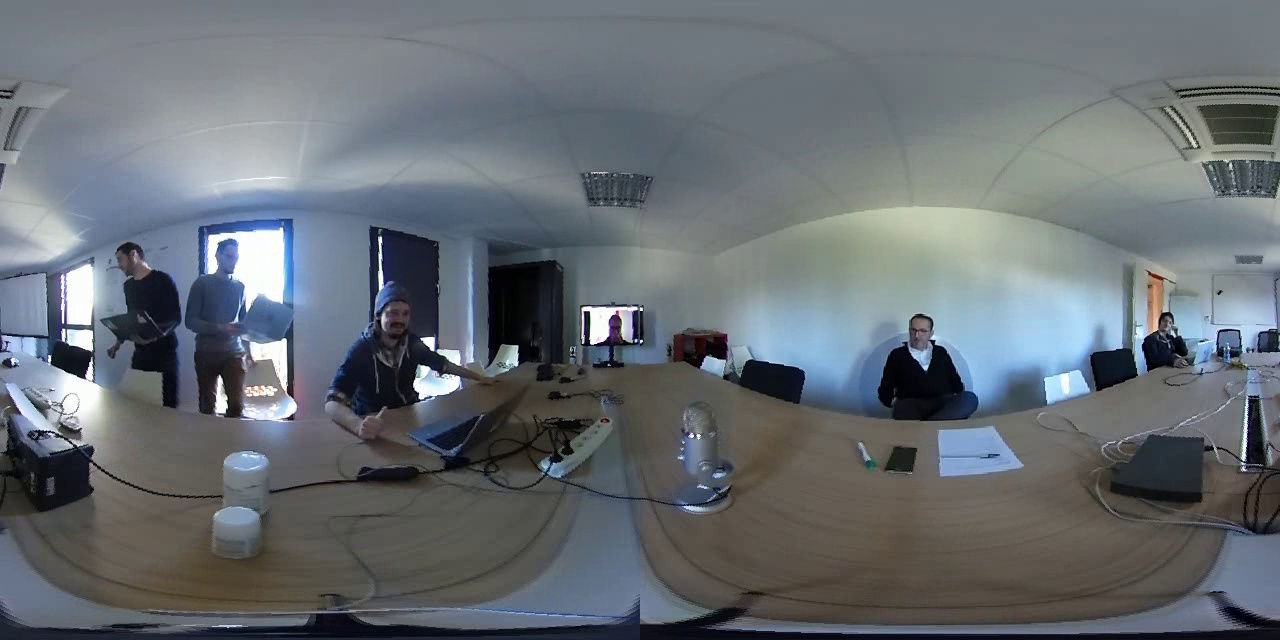person: (326, 277, 464, 407), (99, 227, 185, 361), (873, 306, 977, 415), (189, 229, 270, 359), (1140, 292, 1189, 370), (580, 307, 640, 344)
